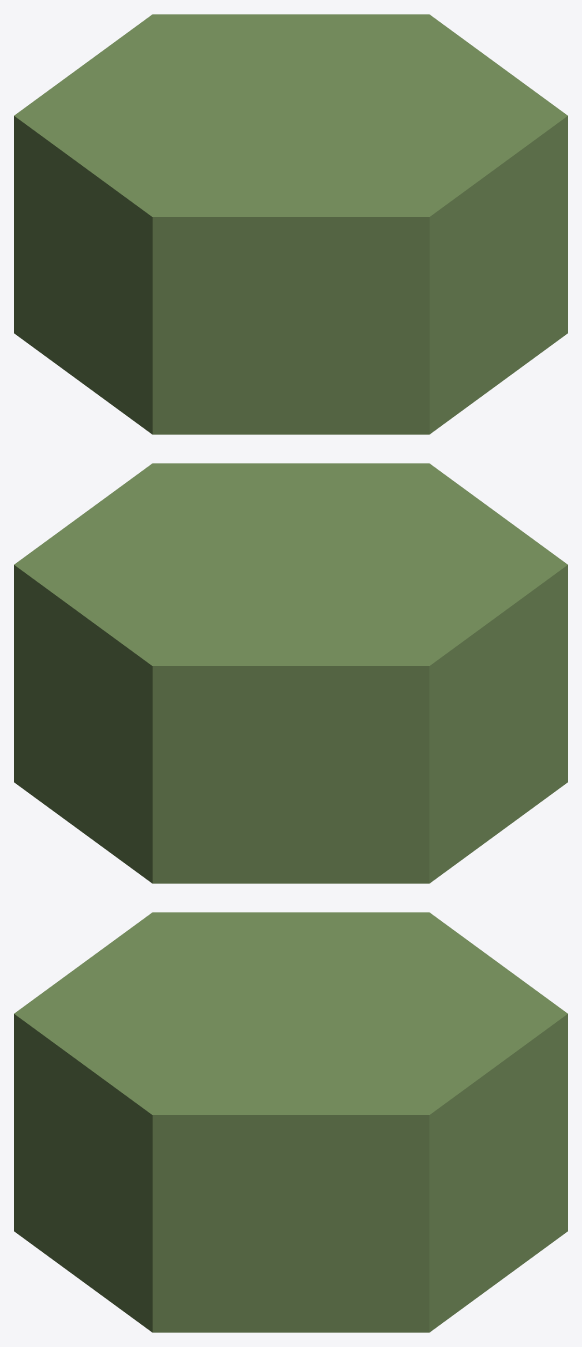
The model's file is hex_20_grassland_grassland_grassland_grassland_grassland_grassland.glb.
3 renders of one model, top to bottom at view 1: azimuth 30°, elevation 25°; view 2: azimuth 150°, elevation 25°; view 3: azimuth 270°, elevation 25°, orthographic.
Visible parts, largest first — view 1: hex_20_grassland_grassland_grassland_grassland_grassland_gra; view 2: hex_20_grassland_grassland_grassland_grassland_grassland_gra; view 3: hex_20_grassland_grassland_grassland_grassland_grassland_gra.
Part boxes in pixels (<box>): hex_20_grassland_grassland_grassland_grassland_grassland_gra: <box>14,14,567,434</box>; hex_20_grassland_grassland_grassland_grassland_grassland_gra: <box>14,463,567,883</box>; hex_20_grassland_grassland_grassland_grassland_grassland_gra: <box>14,912,567,1332</box>.
Size of the model in its own units: 0.9994 by 0.5 by 1.15.
